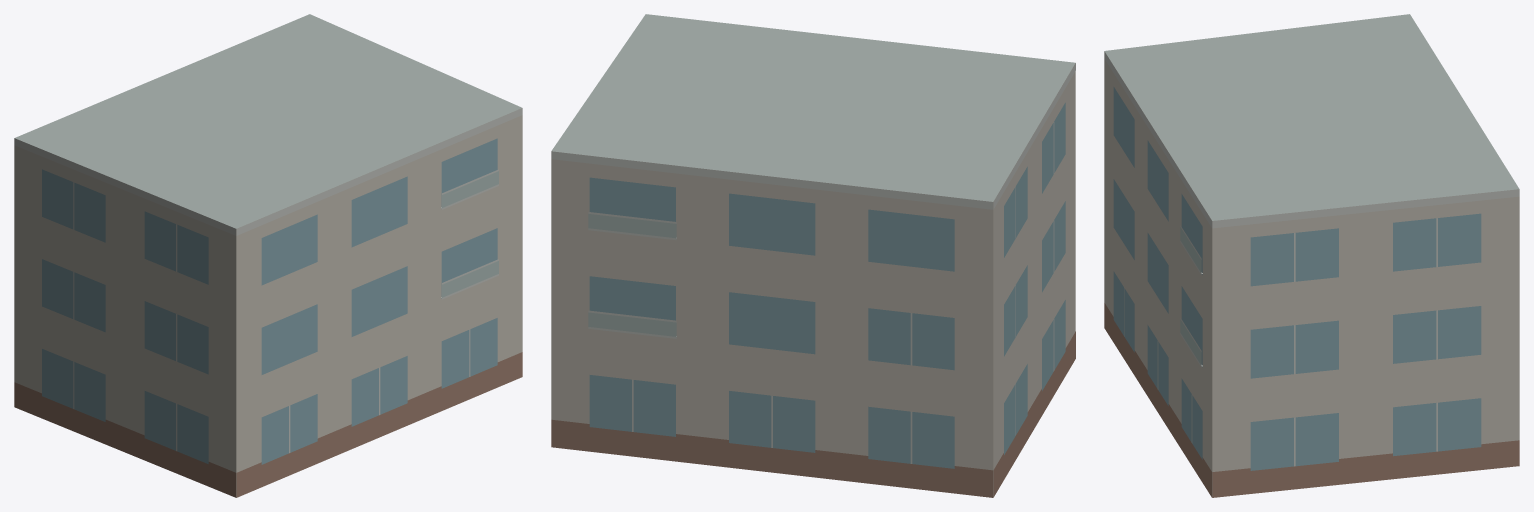
The model's file is survey-upis-32693649.glb.
3 views of the same model, side by side, from view 1: azimuth 30°, elevation 25°; view 2: azimuth 150°, elevation 25°; view 3: azimuth 270°, elevation 25° (orthographic). The views are drawn at different scales.
Parts seen in each view (by area): view 1: survey-upis-32693649.tmp; view 2: survey-upis-32693649.tmp; view 3: survey-upis-32693649.tmp.
Boxes of the visible parts, x1,y1,x2,y2 form: survey-upis-32693649.tmp: (14, 14, 522, 497); survey-upis-32693649.tmp: (551, 14, 1075, 497); survey-upis-32693649.tmp: (1104, 14, 1519, 497).
Bounding box in the file's own units: 14.68 × 9.15 × 12.45.
